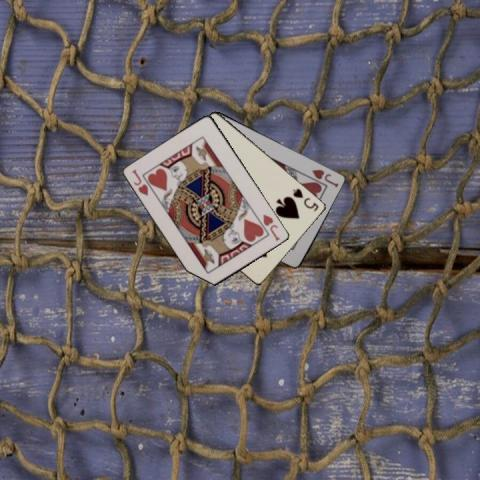5s: (290, 185, 320, 213)
Jh: (309, 166, 340, 189), (260, 211, 282, 243), (129, 166, 150, 197)
